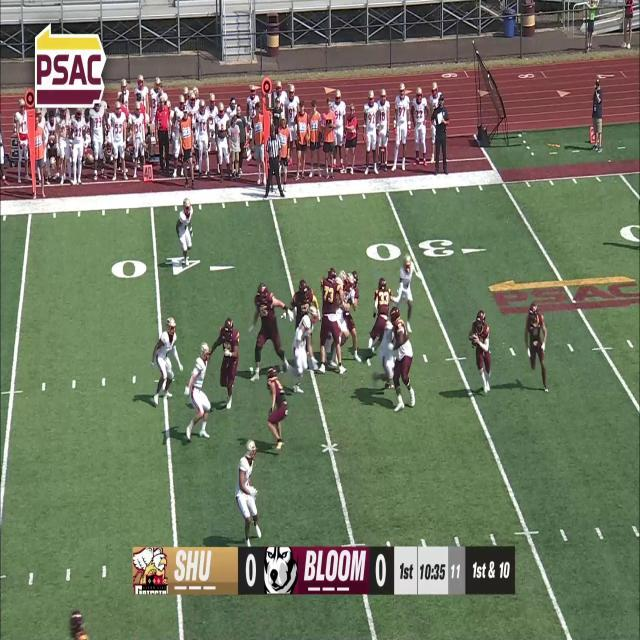football: (470, 331, 478, 350)
